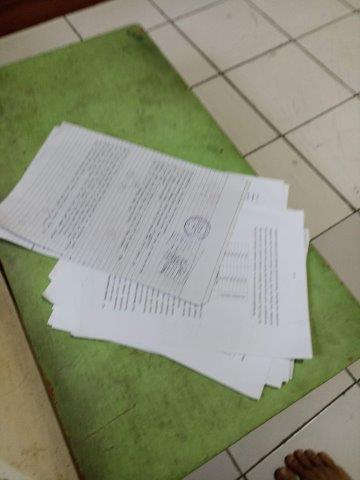kertas: (1, 121, 313, 401)
